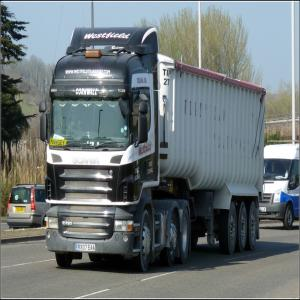Vehicle-registration-plate: (76, 245, 96, 252), (17, 208, 25, 213)
